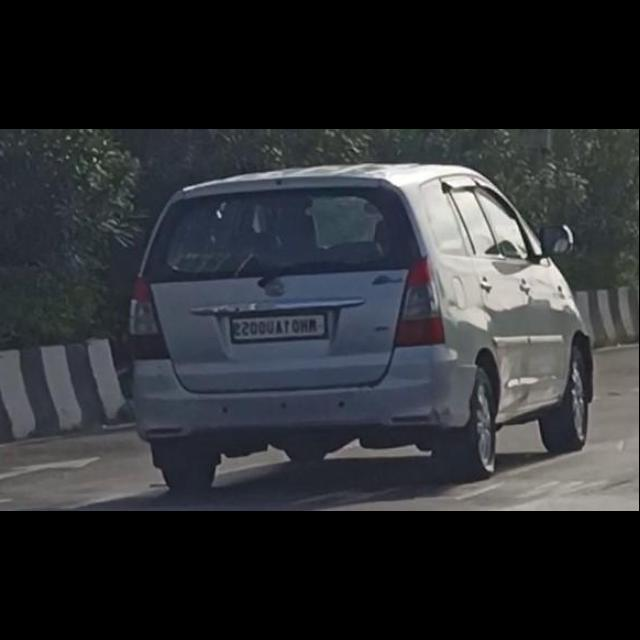number-plate: (226, 314, 331, 343)
vehicles: (123, 158, 603, 500)
